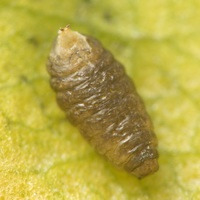insect: (47, 26, 158, 177)
